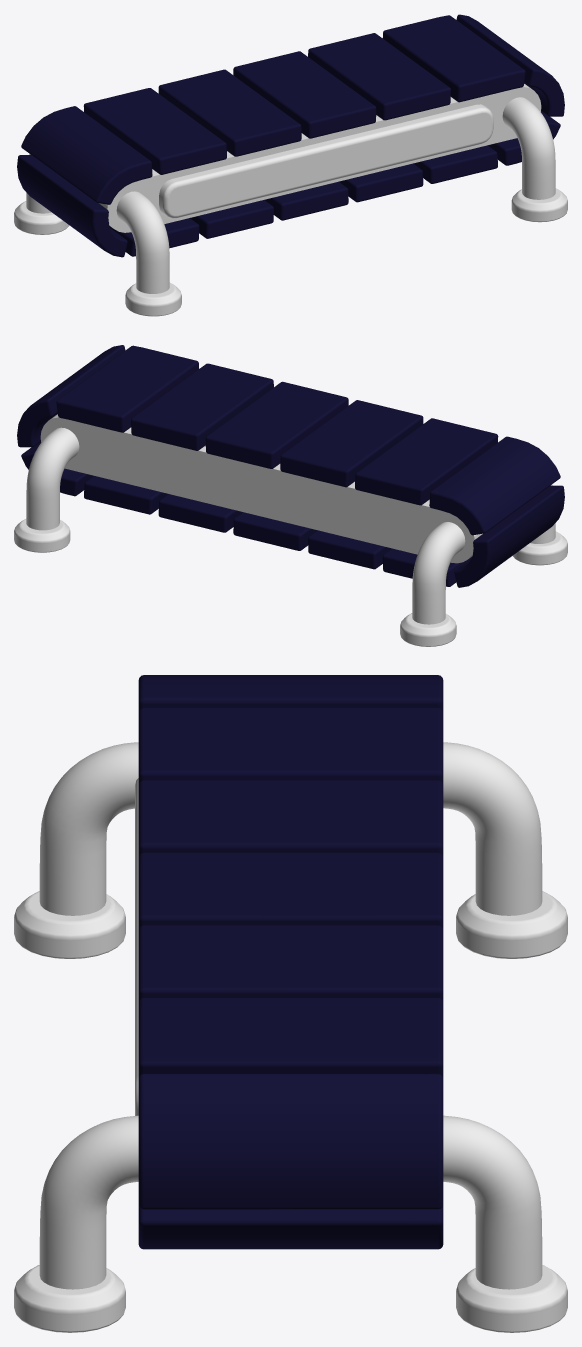
File: 098-belt.glb
The picture shows the model from 3 angles, top to bottom: view 1: azimuth 30°, elevation 25°; view 2: azimuth 150°, elevation 25°; view 3: azimuth 270°, elevation 25°; orthographic projection. The views are drawn at different scales.
Parts seen in each view (by area): view 1: Plane.001, Plane.003, Vert, Plane.002, Circle; view 2: Plane.001, Plane.002, Vert, Circle; view 3: Plane.001, Vert, Circle, Plane.003.
Boxes of the visible parts, x1,y1,x2,y2 form: Plane.001: [17, 14, 564, 257]; Plane.003: [159, 104, 493, 218]; Vert: [26, 97, 555, 293]; Plane.002: [99, 84, 541, 232]; Circle: [14, 188, 567, 316]; Plane.001: [17, 345, 564, 587]; Plane.002: [40, 414, 482, 563]; Vert: [26, 427, 555, 624]; Circle: [14, 519, 567, 646]; Plane.001: [138, 675, 443, 1249]; Vert: [39, 742, 542, 1289]; Circle: [14, 891, 567, 1332]; Plane.003: [135, 778, 138, 1115].
Bounding box in the file's own units: 5.04 × 1.3 × 2.58.
